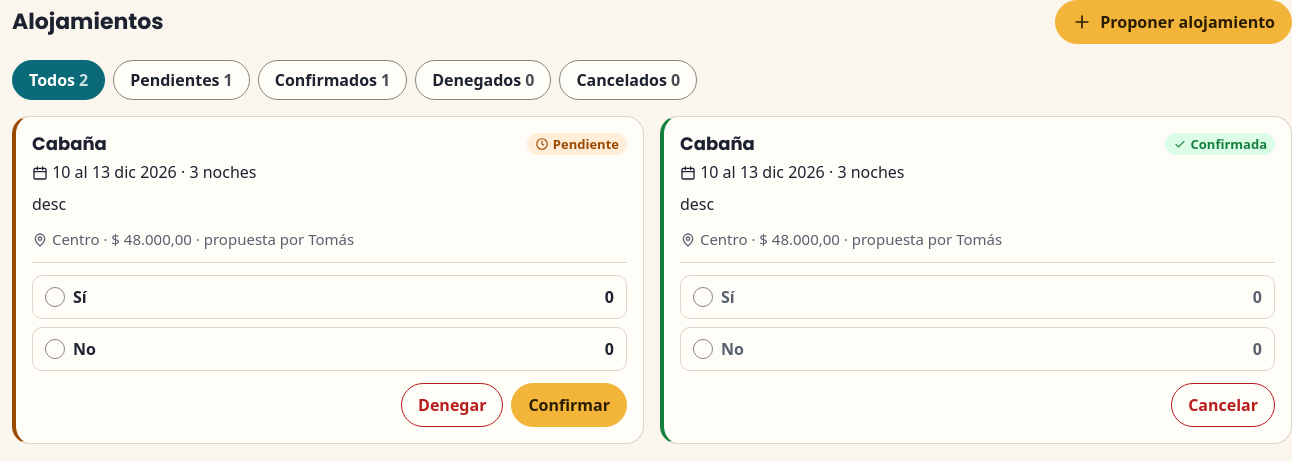
AlojamientosVista › filtra con varios estados a la vez, cada uno con su cantidad, y sin resultados lo dice
Step 1. Click the button "Confirmados 1" → (332, 80), box [258,60,407,100]
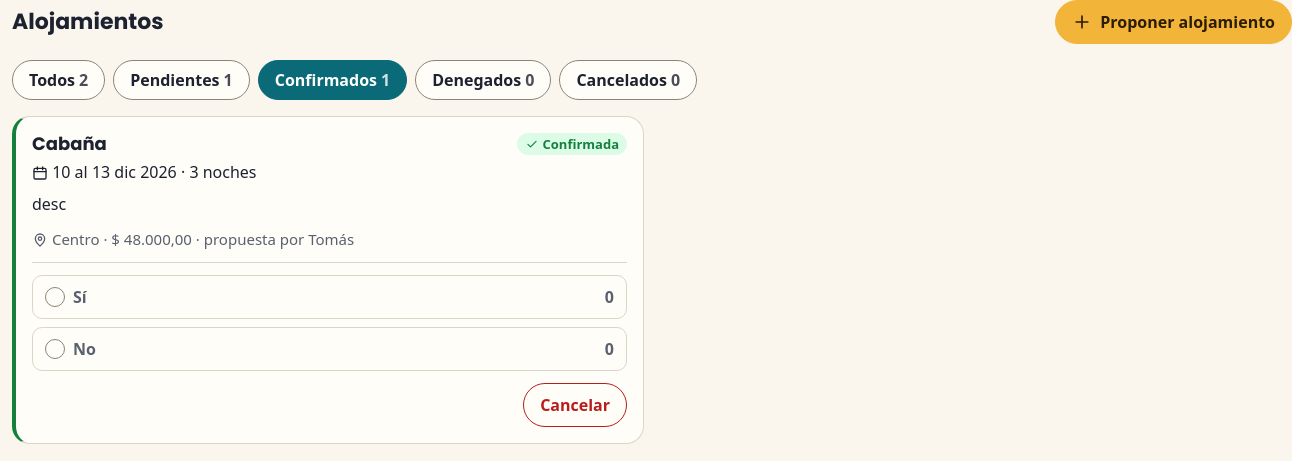
Step 2. Click the button "Pendientes 1" → (181, 80), box [113,60,250,100]
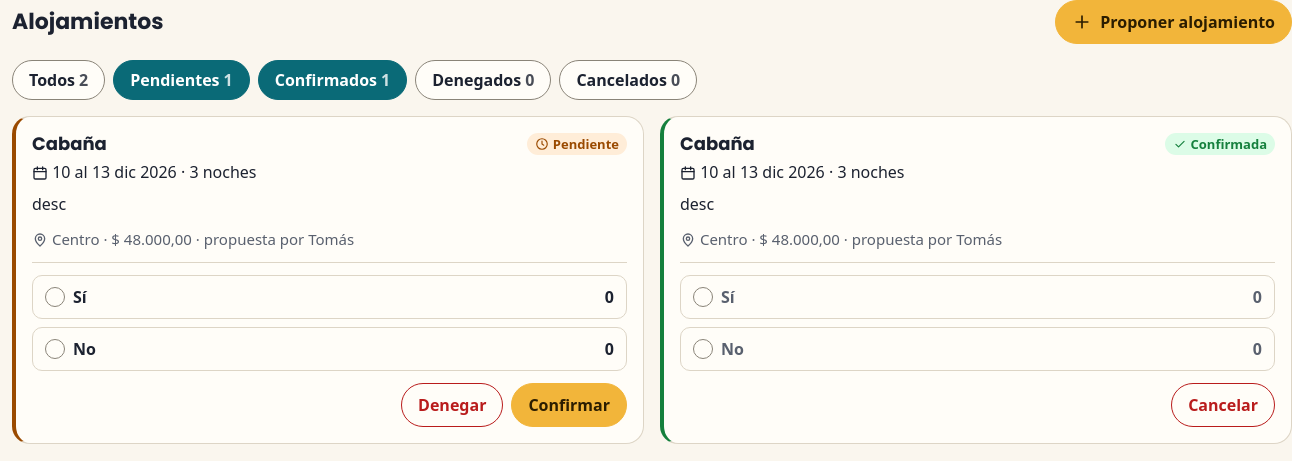
Result: the button "Todos 2" is not pressed at [12,60,105,100]
Step 3. Click the button "Pendientes 1" → (181, 80), box [113,60,250,100]
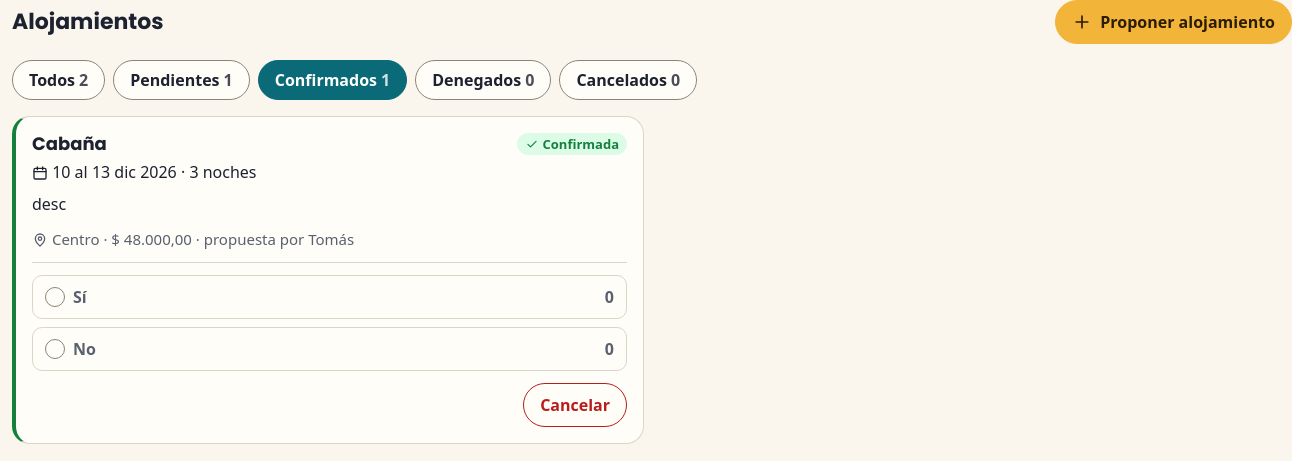
Step 4. Click the button "Confirmados 1" → (332, 80), box [258,60,407,100]
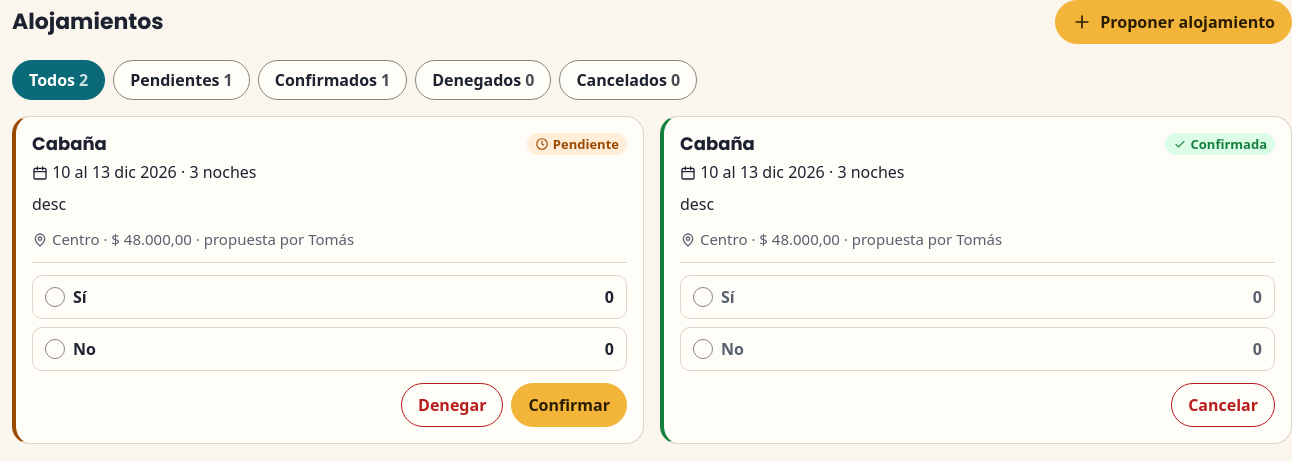
Step 5. Click the button "Denegados 0" → (483, 80), box [415,60,551,100]
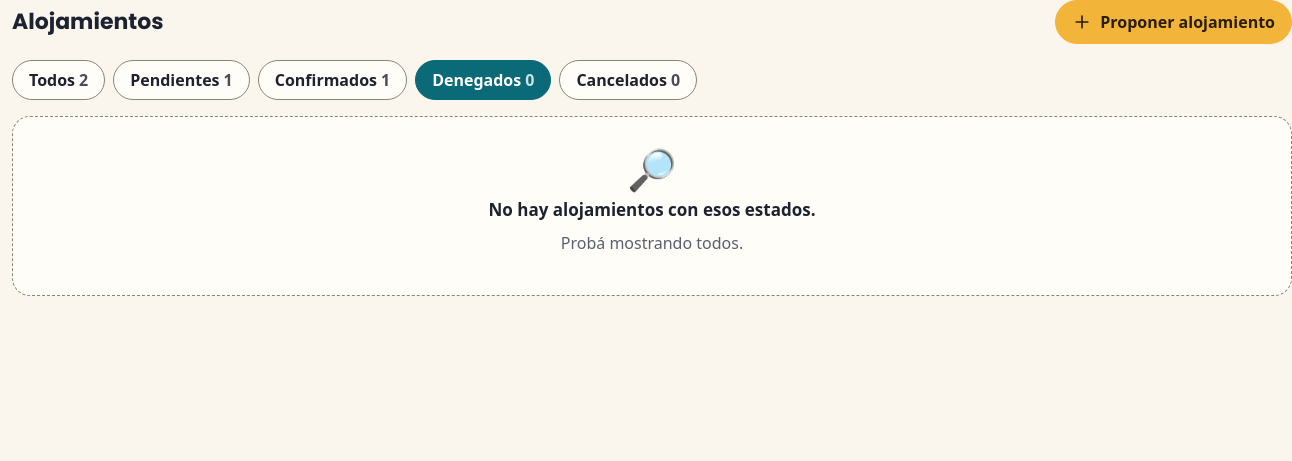
Result: the text "No hay alojamientos con esos estados." is shown at [488,197,816,222]
